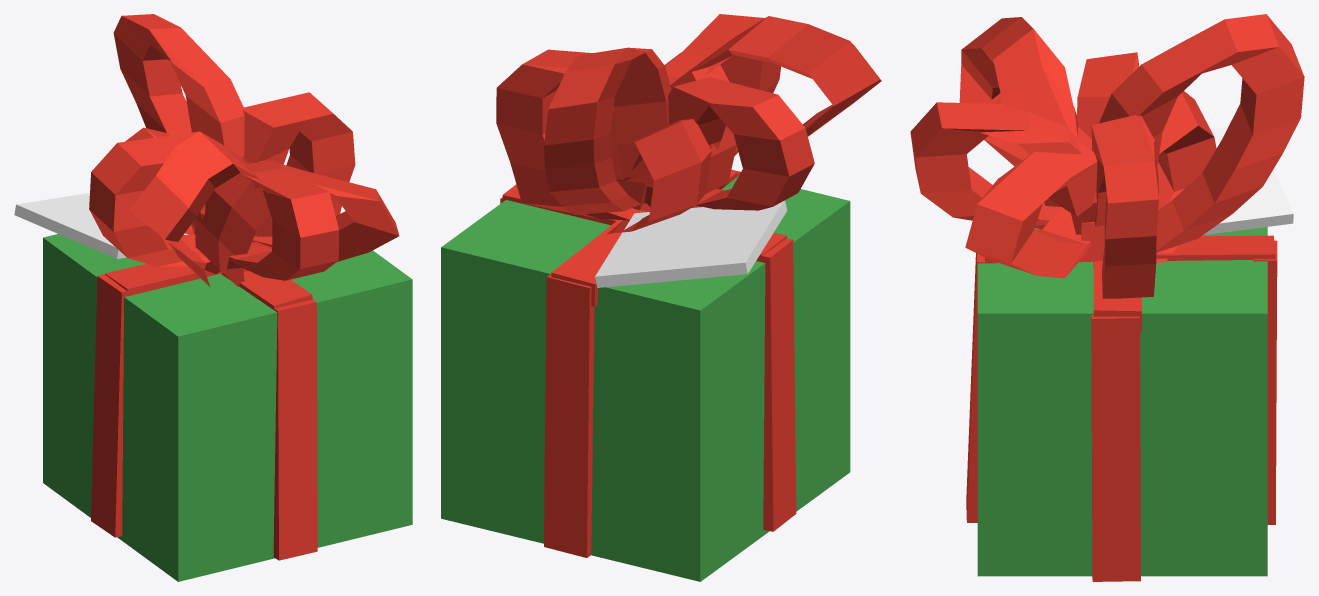
The model's file is gift.glb.
3 renders of one model, left to right at view 1: azimuth 30°, elevation 25°; view 2: azimuth 150°, elevation 25°; view 3: azimuth 270°, elevation 25°, orthographic. The views are drawn at different scales.
Parts seen in each view (by area): view 1: group1455568456, group1865578996, group1583049009; view 2: group1455568456, group1865578996, group1583049009; view 3: group1865578996, group1455568456, group1583049009.
Boxes of the visible parts, bbox=[...] form: group1455568456: bbox=[43, 234, 412, 581]; group1865578996: bbox=[89, 14, 399, 560]; group1583049009: bbox=[14, 193, 188, 258]; group1455568456: bbox=[441, 175, 850, 581]; group1865578996: bbox=[496, 14, 881, 557]; group1583049009: bbox=[595, 200, 787, 287]; group1865578996: bbox=[910, 14, 1304, 581]; group1455568456: bbox=[977, 227, 1267, 576]; group1583049009: bbox=[1203, 127, 1293, 234].
Bounding box in the file's own units: 0.1955 × 0.3 × 0.2223.
